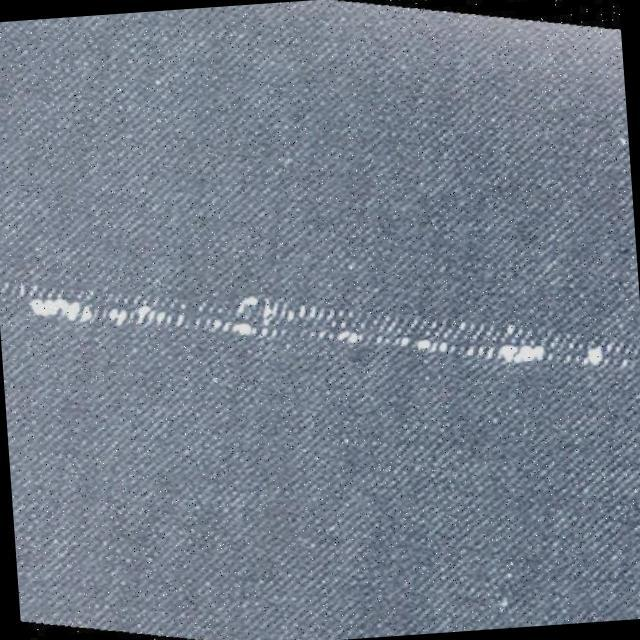Warp_Weft: (17, 275, 620, 384)
